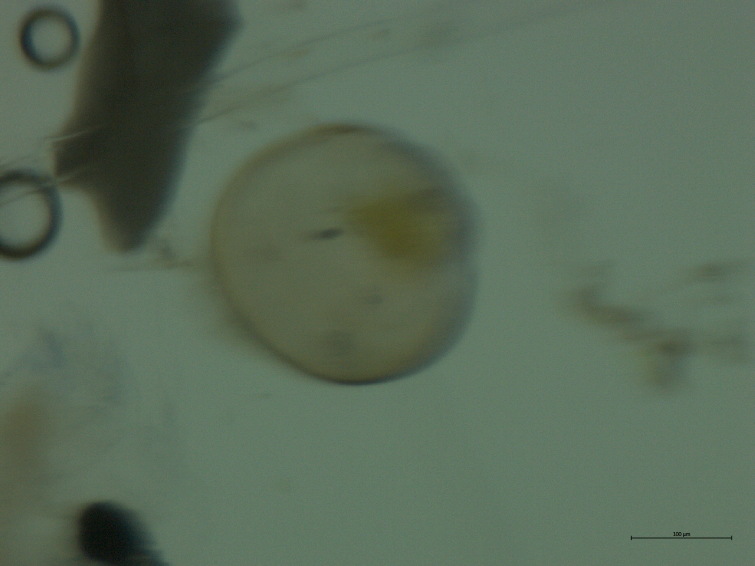oyster: (196, 112, 498, 399)
